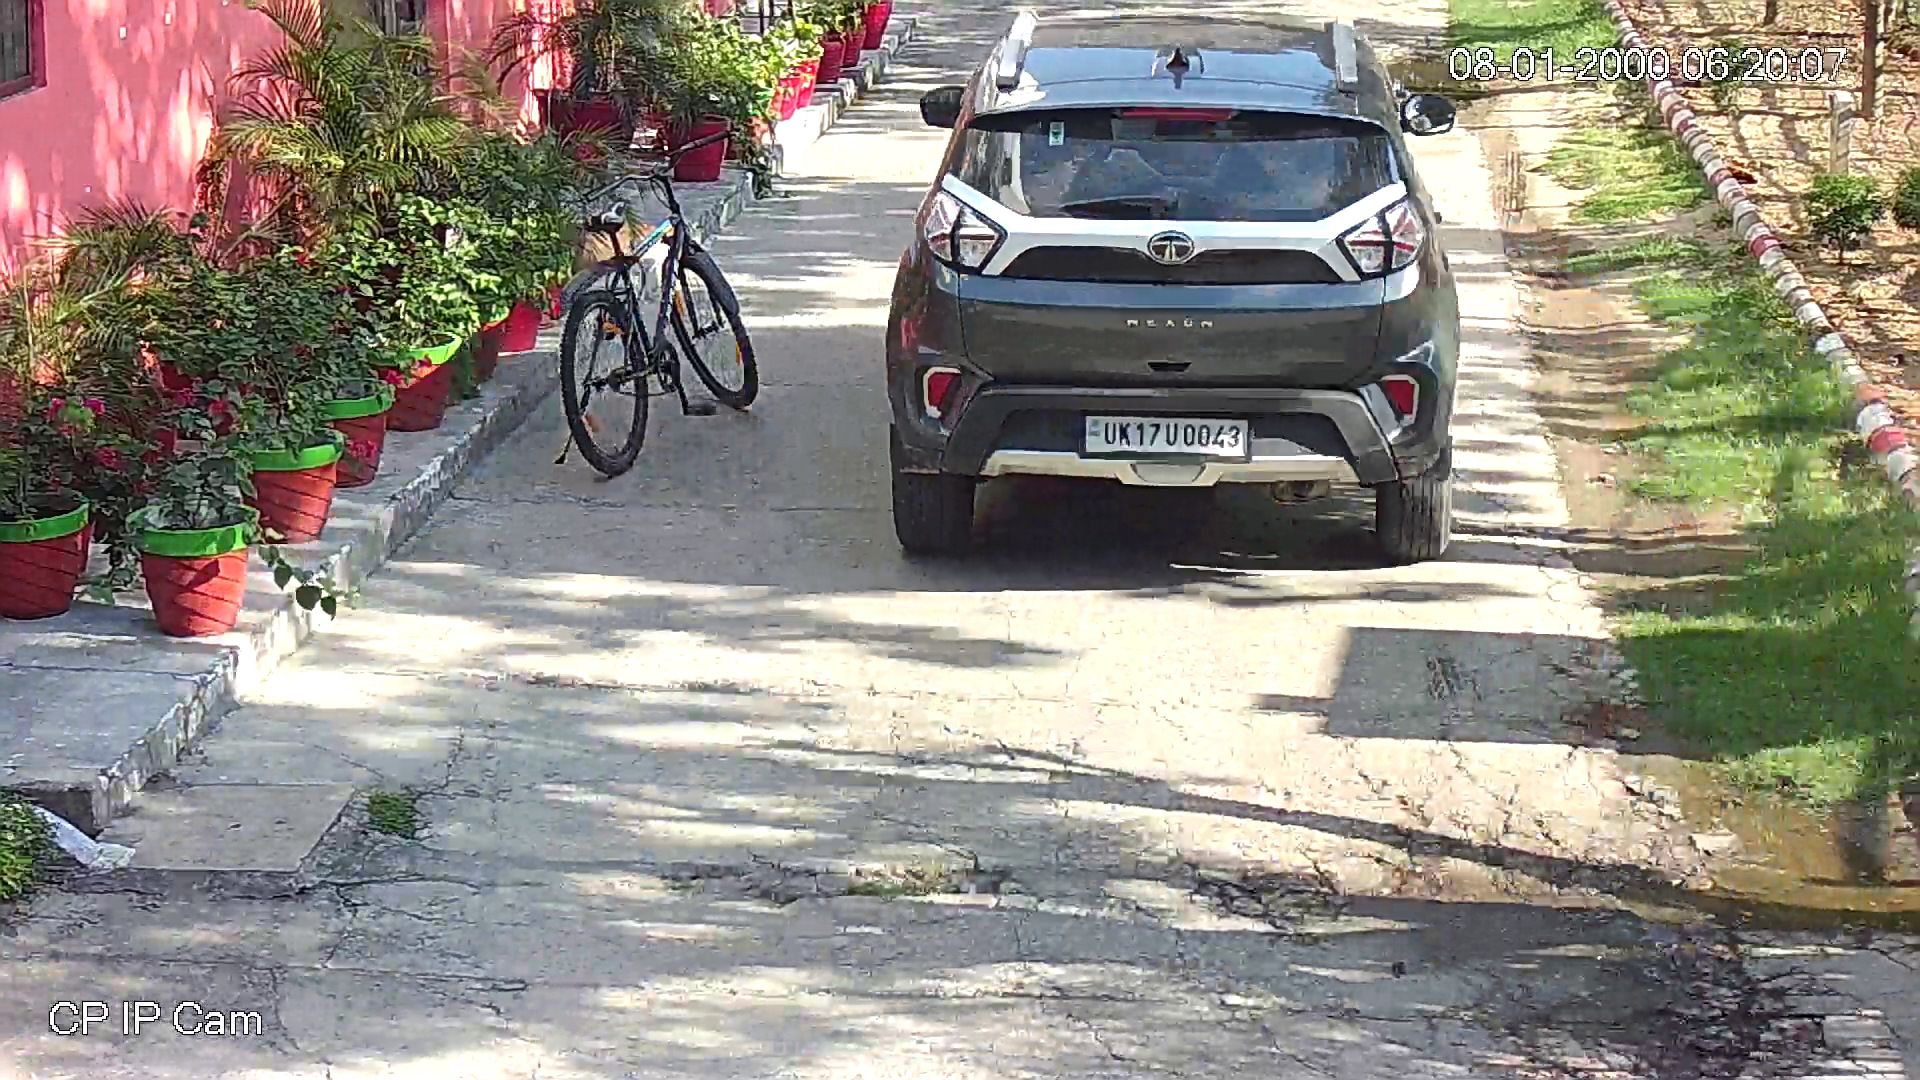plate: (1080, 407, 1256, 460)
